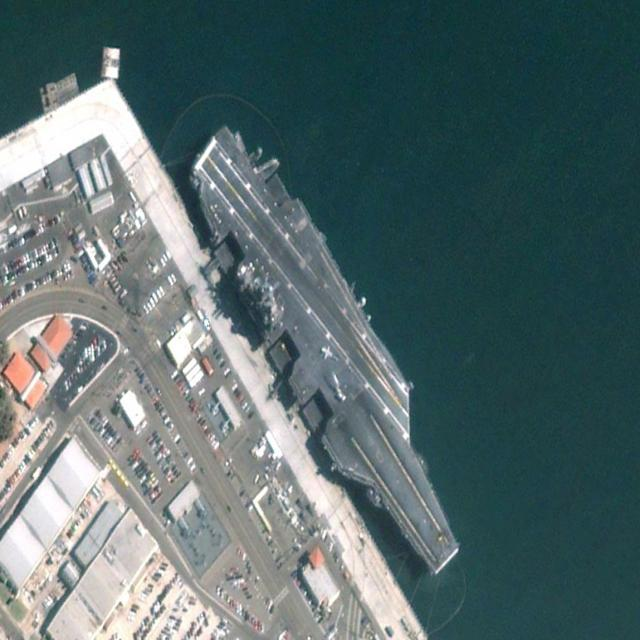Aircraft Carrier: (173, 98, 486, 604)
